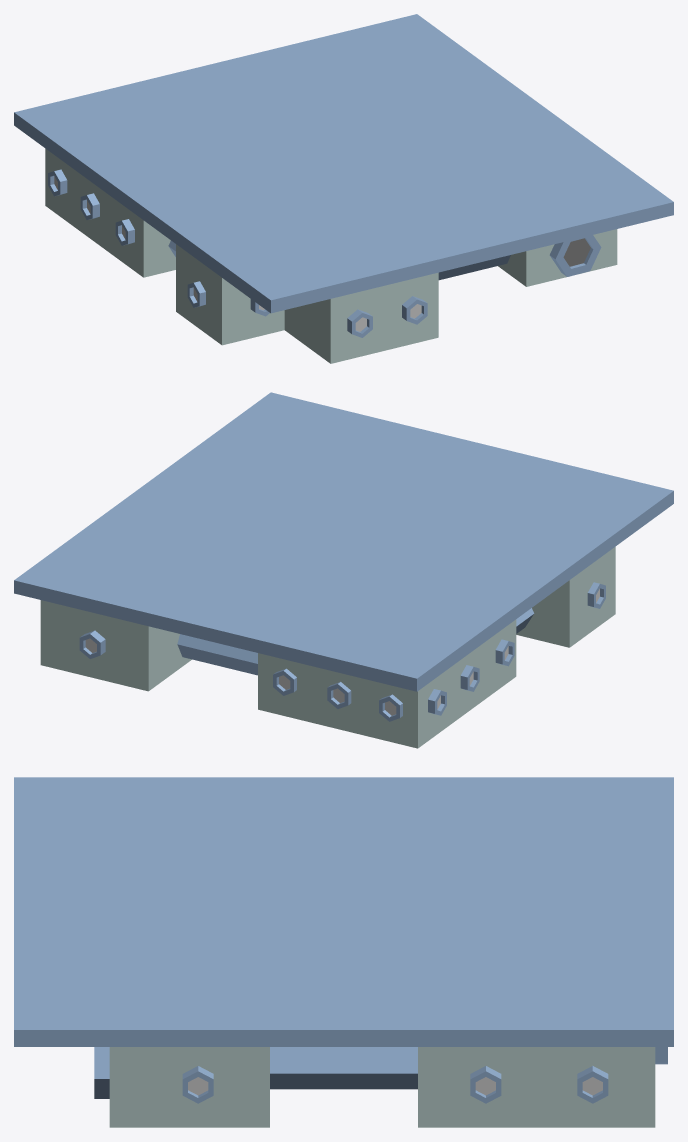
The model's file is barracks.fbx.
3 renders of one model, top to bottom at view 1: azimuth 30°, elevation 25°; view 2: azimuth 150°, elevation 25°; view 3: azimuth 270°, elevation 25°, orthographic. The views are drawn at different scales.
Visible parts, largest first — view 1: Cube.004, Cube.002, Cube.003, Cube.001, Cylinder.011, Cylinder.003, Cylinder.012, Cylinder.013; view 2: Cube.004, Cube.003, Cube, Cube.002, Cylinder.002, Cylinder.007; view 3: Cube.004, Cube, Cube.001, Cylinder, Cylinder.009, Cylinder.008, Cylinder.010, Cylinder.011.
Part boxes in pixels (box(x1,y1,x2,y2)): Cube.004: box(14, 14, 673, 313); Cube.002: box(176, 244, 438, 363); Cube.003: box(45, 148, 175, 277); Cube.001: box(498, 229, 617, 286); Cylinder.011: box(549, 235, 601, 276); Cylinder.003: box(438, 255, 510, 280); Cylinder.012: box(402, 296, 427, 324); Cylinder.013: box(347, 309, 372, 337); Cube.004: box(14, 392, 673, 691); Cube.003: box(258, 619, 516, 748); Cube: box(40, 600, 191, 691); Cube.002: box(516, 547, 615, 647); Cylinder.002: box(177, 634, 257, 675); Cylinder.007: box(79, 630, 105, 658); Cube.004: box(14, 777, 673, 1046); Cube: box(418, 1047, 655, 1127); Cube.001: box(109, 1047, 269, 1127); Cylinder: box(270, 1047, 417, 1089); Cylinder.009: box(470, 1066, 501, 1103); Cylinder.008: box(577, 1066, 608, 1103); Cylinder.010: box(182, 1066, 213, 1103); Cylinder.011: box(94, 1047, 109, 1098).
Size of the model in its own units: 750 by 151 by 825.
